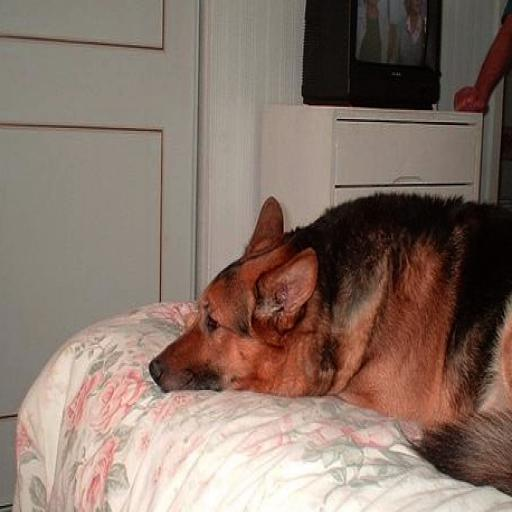dog_face: (141, 234, 322, 411)
